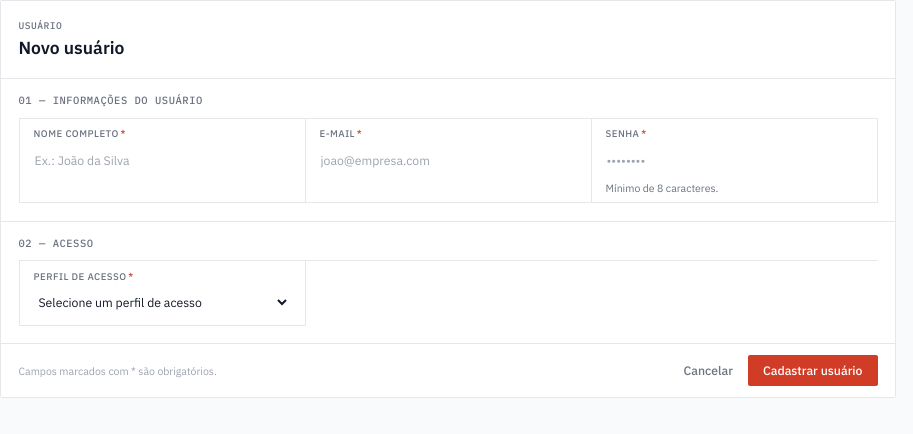
Test: UserEditPage — modo criação › deve exigir nome, e-mail, senha e função
Click the button "Cadastrar usuário" at x=813, y=371, box [748,355,878,386]
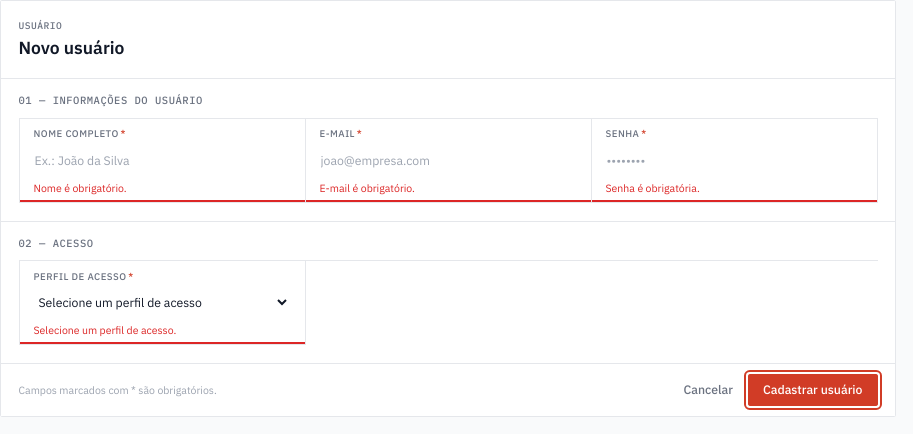
Result: the text "Nome é obrigatório." is shown at [34,181,127,195]
Result: the text "E-mail é obrigatório." is shown at [320,181,415,195]
Result: the text "Senha é obrigatória." is shown at [606,181,700,195]
